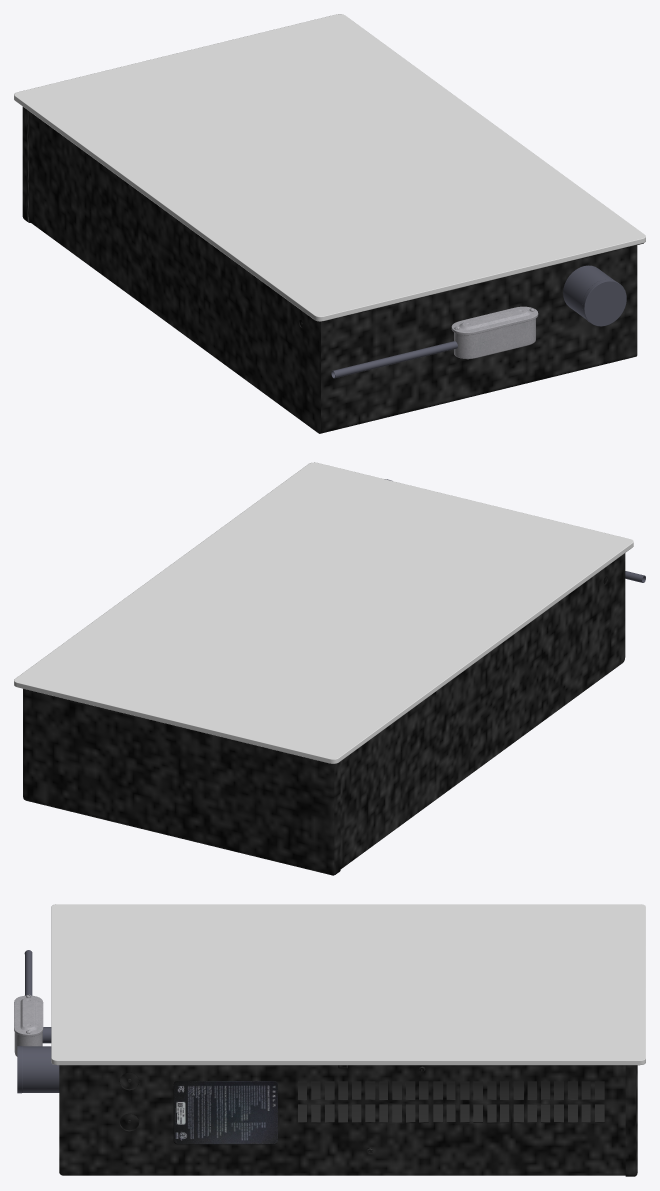
Rendered from chargingdock1.fbx.
3 views of the same model, one above another, from view 1: azimuth 30°, elevation 25°; view 2: azimuth 150°, elevation 25°; view 3: azimuth 270°, elevation 25° (orthographic). The views are drawn at different scales.
Parts seen in each view (by area): view 1: Front panrl, Body, Metal, Plastic; view 2: Front panrl, Body; view 3: Front panrl, Body, Plane.002, Label, Plastic, Metal.
Boxes of the visible parts, x1,y1,x2,y2 form: Front panrl: (14,14,645,321); Body: (22,107,643,433); Metal: (331,306,538,378); Plastic: (490,265,626,326); Front panrl: (14,462,633,763); Body: (23,553,625,875); Front panrl: (51,904,645,1065); Body: (59,1065,637,1176); Plane.002: (298,1081,604,1121); Label: (173,1081,277,1144); Plastic: (17,1027,59,1093); Metal: (14,950,43,1056).
Size of the model in its own units: 41.1 by 14.72 by 70.16.
